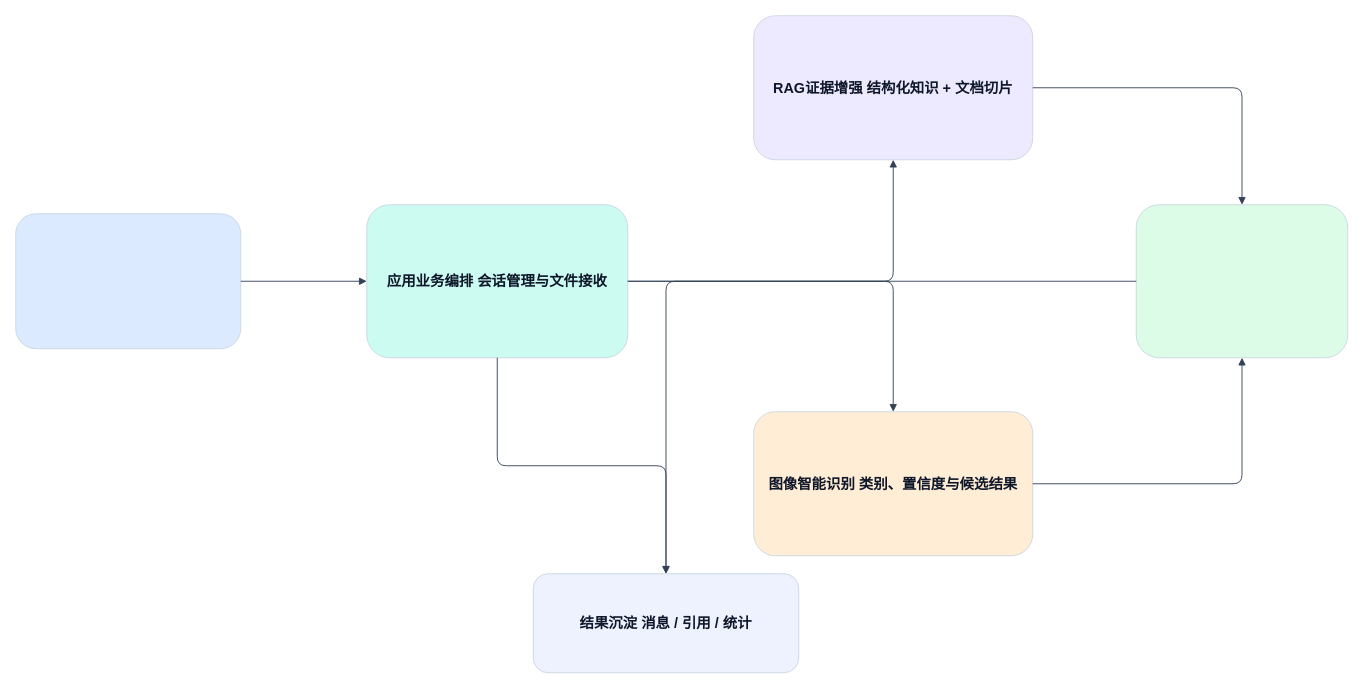
Some shapes in this 1364 by 689 pixel diagram are drawn without their labels. The centre of each missing label's shape, as x and y in pixels:
"用户输入 症状文本 / 皮肤图像" goes at (128,281).
"辅助报告生成 解释 / 建议 / 风险提示" goes at (1241,281).
